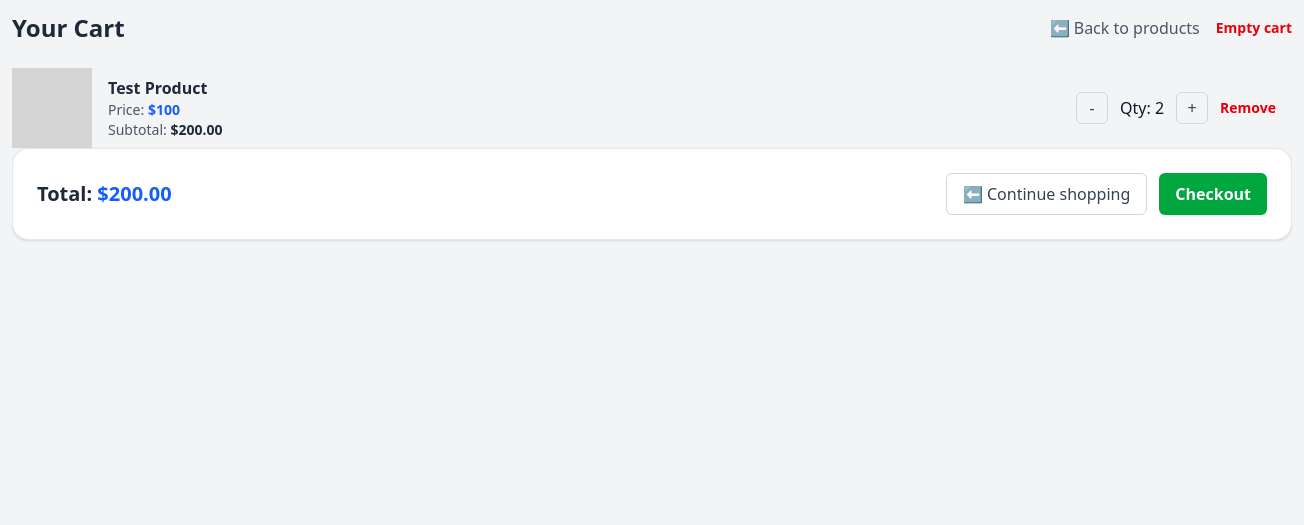
removes item when clicking Remove button
Expected: the heading "Test Product" is shown, top-left (108, 77), bottom-right (207, 99)
Click the button "Remove".
click(1248, 108)  # box top-left (1220, 98), bottom-right (1276, 118)
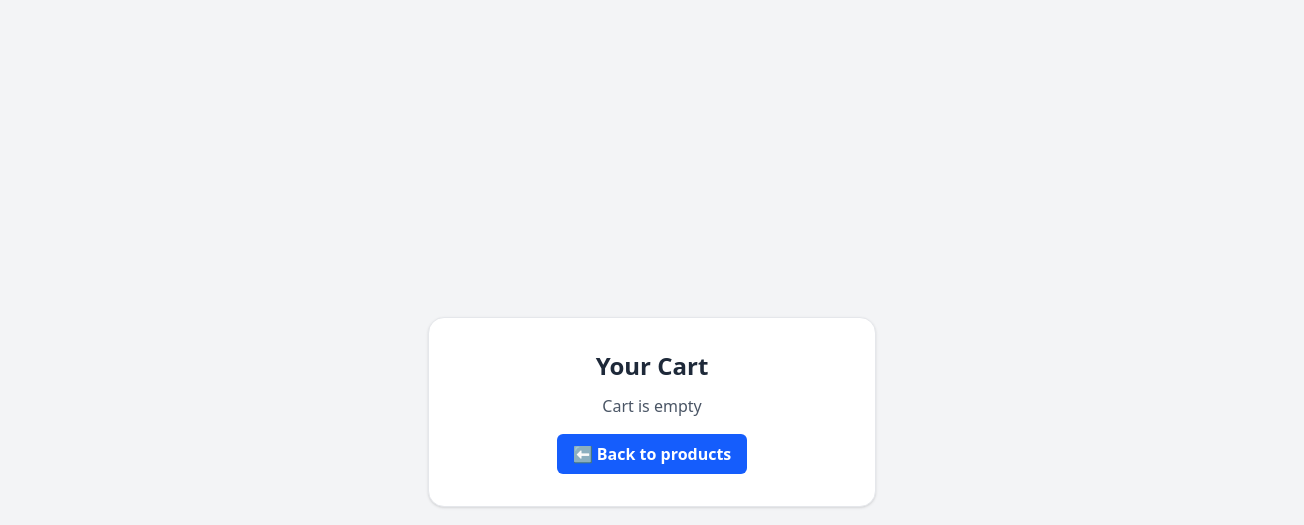
Result: the text "Cart is empty" is shown at top-left (602, 395), bottom-right (702, 417)
Result: the heading "Test Product" is gone
